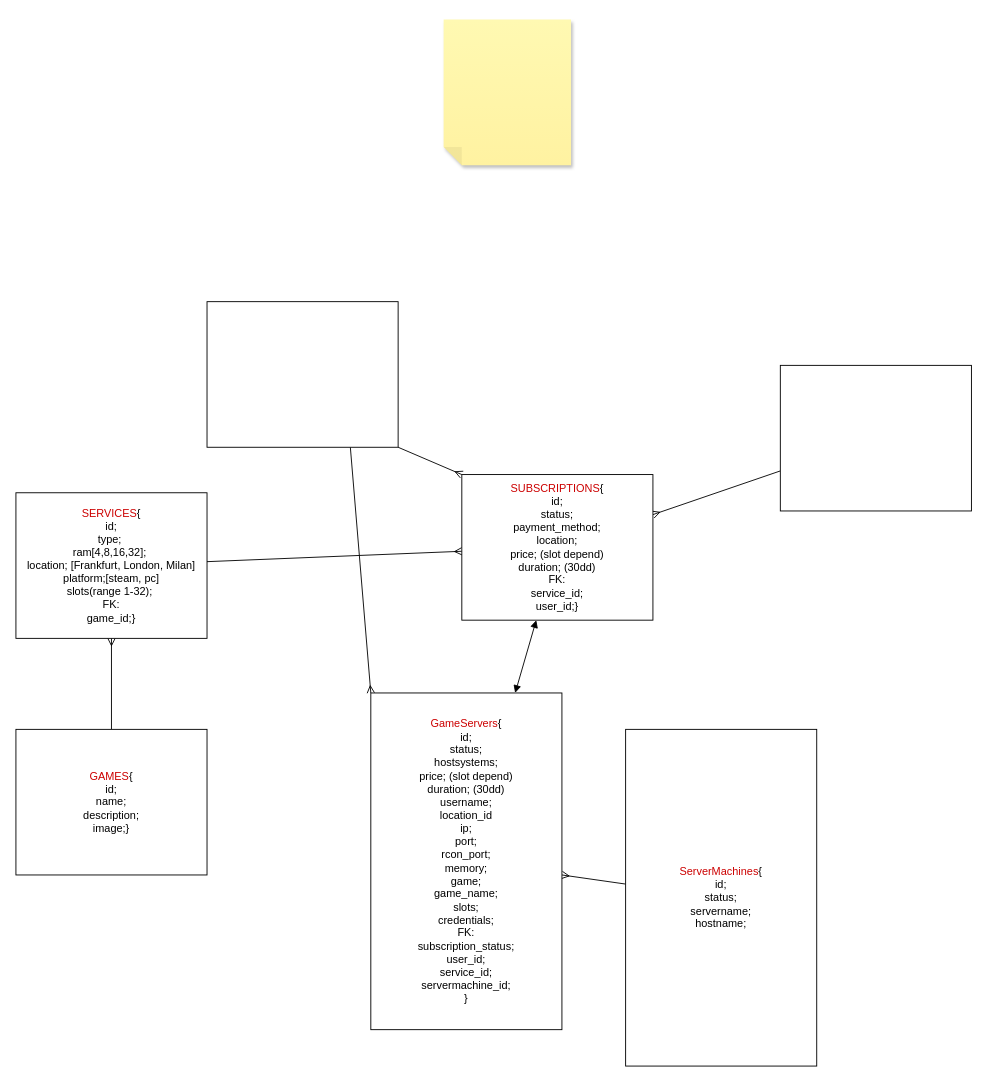
This 987x1082 diagram has some shape labels left out. Here are the shapes that lost their labels. From the top down, the centre of each, then its label:
At (x=508, y=93): "1) Users (breeze) 2) Games 3) Subscriptions 4) Services".
At (x=302, y=374): "USERS { id; username; email; password;}".
At (x=875, y=437): "PAYMENTS { id; }".
